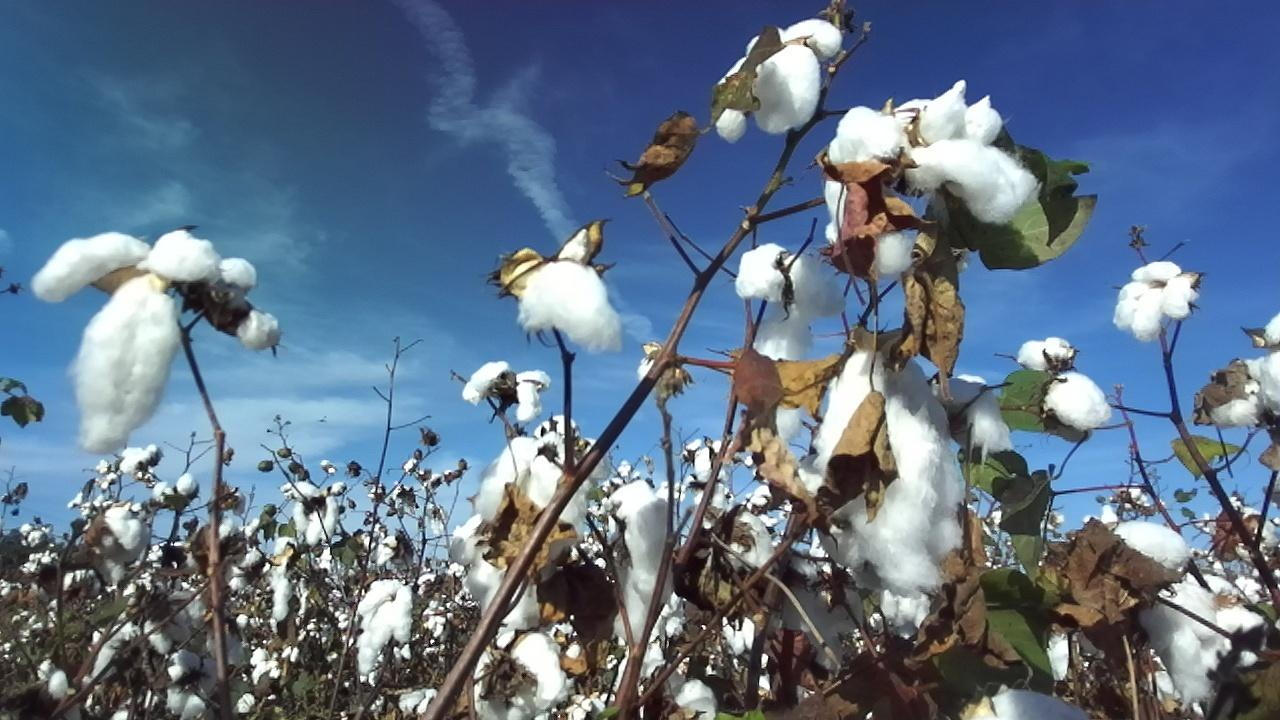cotton_ready: (31, 227, 277, 458), (825, 84, 1044, 274), (817, 344, 965, 591), (737, 245, 844, 439), (720, 17, 840, 149), (476, 420, 607, 539), (1144, 582, 1265, 708), (517, 232, 619, 353), (684, 504, 777, 619), (454, 519, 539, 630), (612, 480, 665, 646), (475, 630, 564, 720), (1112, 264, 1195, 342), (356, 579, 412, 676), (464, 360, 551, 421), (950, 378, 1015, 457), (640, 662, 720, 720), (120, 589, 195, 649), (1109, 520, 1189, 575), (1045, 371, 1117, 427), (973, 690, 1099, 720), (100, 504, 145, 585), (1212, 354, 1257, 427), (866, 595, 932, 640), (293, 483, 340, 544), (1257, 315, 1280, 426), (1017, 339, 1076, 371), (1046, 629, 1074, 683)
